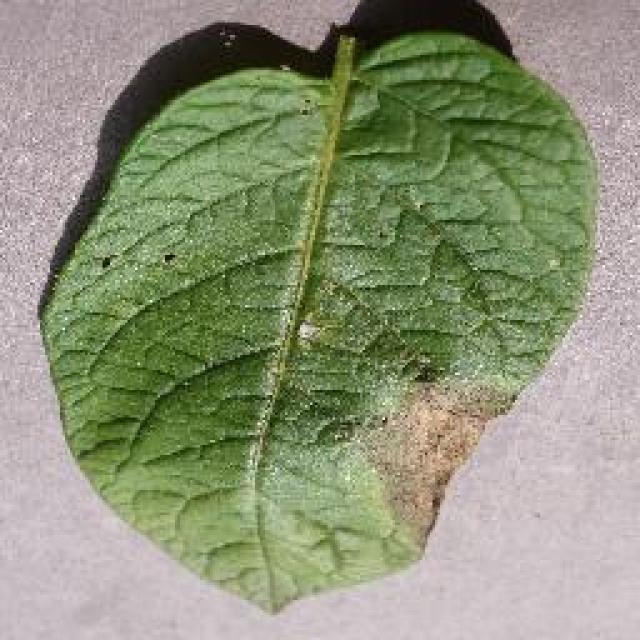Potato___Late_blight: (31, 27, 602, 625)
